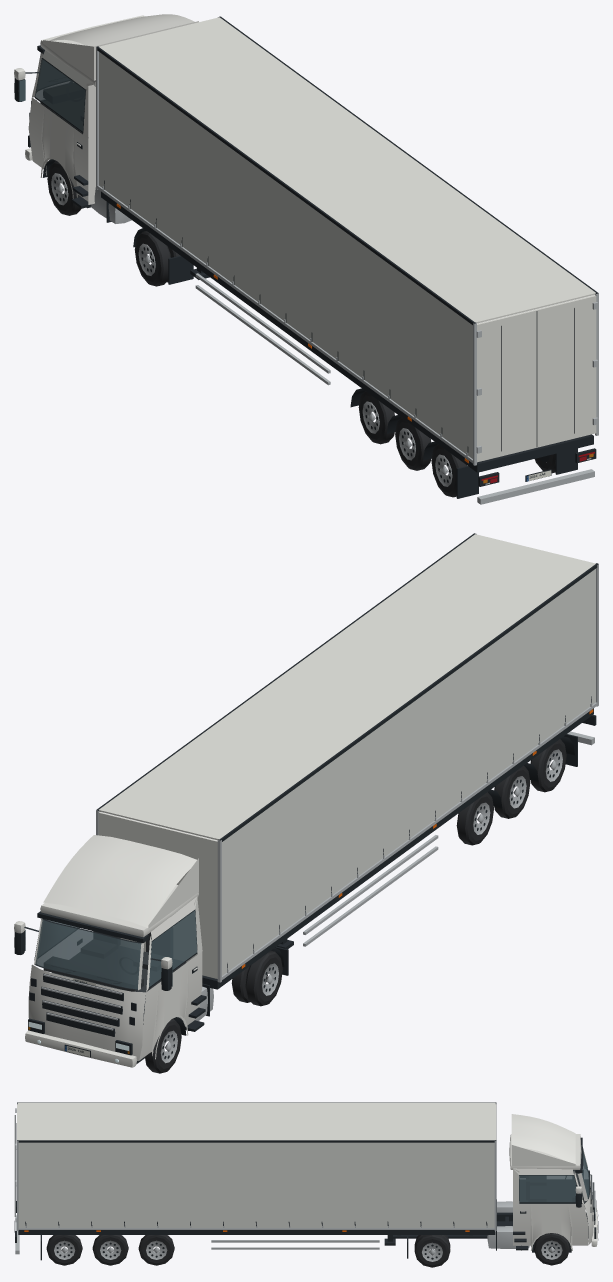
The model's file is Entrega_02_Scania_Tauliner_LOD1.glb.
3 views of the same model, one above another, from view 1: azimuth 30°, elevation 25°; view 2: azimuth 150°, elevation 25°; view 3: azimuth 270°, elevation 25° (orthographic). The views are drawn at different scales.
Parts seen in each view (by area): view 1: Cargo, Canvas, TrailerFrame, Body, Glass, Wheel_RL, Chassis, Interior, Wheel_Trailer_2L, Wheel_Trailer_1L, Wheel_FL, Wheel_Trailer_3L; view 2: Cargo, Canvas, Body, TrailerFrame, Glass, Interior, Wheel_RL, Wheel_Trailer_1L, Wheel_Trailer_2L, Wheel_Trailer_3L, Wheel_FL, Chassis; view 3: Canvas, Cargo, Body, TrailerFrame, Glass, Interior, Chassis, Wheel_RR, Wheel_FR, Wheel_Trailer_1R, Wheel_Trailer_2R, Wheel_Trailer_3R.
Boxes of the visible parts, <box> form: Cargo: <box>99,17,598,462</box>; Canvas: <box>99,52,472,458</box>; TrailerFrame: <box>96,16,598,504</box>; Body: <box>14,14,198,208</box>; Glass: <box>19,58,85,131</box>; Wheel_RL: <box>134,231,179,286</box>; Chassis: <box>42,159,193,284</box>; Interior: <box>40,81,88,137</box>; Wheel_Trailer_2L: <box>395,417,431,470</box>; Wheel_Trailer_1L: <box>358,391,394,444</box>; Wheel_FL: <box>47,161,81,215</box>; Wheel_Trailer_3L: <box>431,444,466,497</box>; Cargo: <box>98,534,595,978</box>; Canvas: <box>222,569,595,975</box>; Body: <box>14,835,206,1067</box>; TrailerFrame: <box>96,533,598,989</box>; Glass: <box>25,910,197,989</box>; Interior: <box>43,928,186,992</box>; Wheel_RL: <box>231,950,282,1006</box>; Wheel_Trailer_1L: <box>456,792,493,845</box>; Wheel_Trailer_2L: <box>494,765,530,818</box>; Wheel_Trailer_3L: <box>530,739,566,792</box>; Wheel_FL: <box>145,1018,181,1073</box>; Chassis: <box>136,946,288,1063</box>; Canvas: <box>18,1142,494,1227</box>; Cargo: <box>14,1102,496,1222</box>; Body: <box>509,1114,598,1250</box>; TrailerFrame: <box>15,1102,496,1260</box>; Glass: <box>519,1151,589,1202</box>; Interior: <box>519,1170,587,1208</box>; Chassis: <box>393,1199,588,1258</box>; Wheel_RR: <box>414,1235,450,1267</box>; Wheel_FR: <box>534,1233,569,1265</box>; Wheel_Trailer_1R: <box>138,1235,174,1265</box>; Wheel_Trailer_2R: <box>92,1235,128,1265</box>; Wheel_Trailer_3R: <box>46,1235,82,1265</box>.
Bounding box in the file's own units: 3.24 × 4.02 × 16.65.
17 materials, 2 textured.
